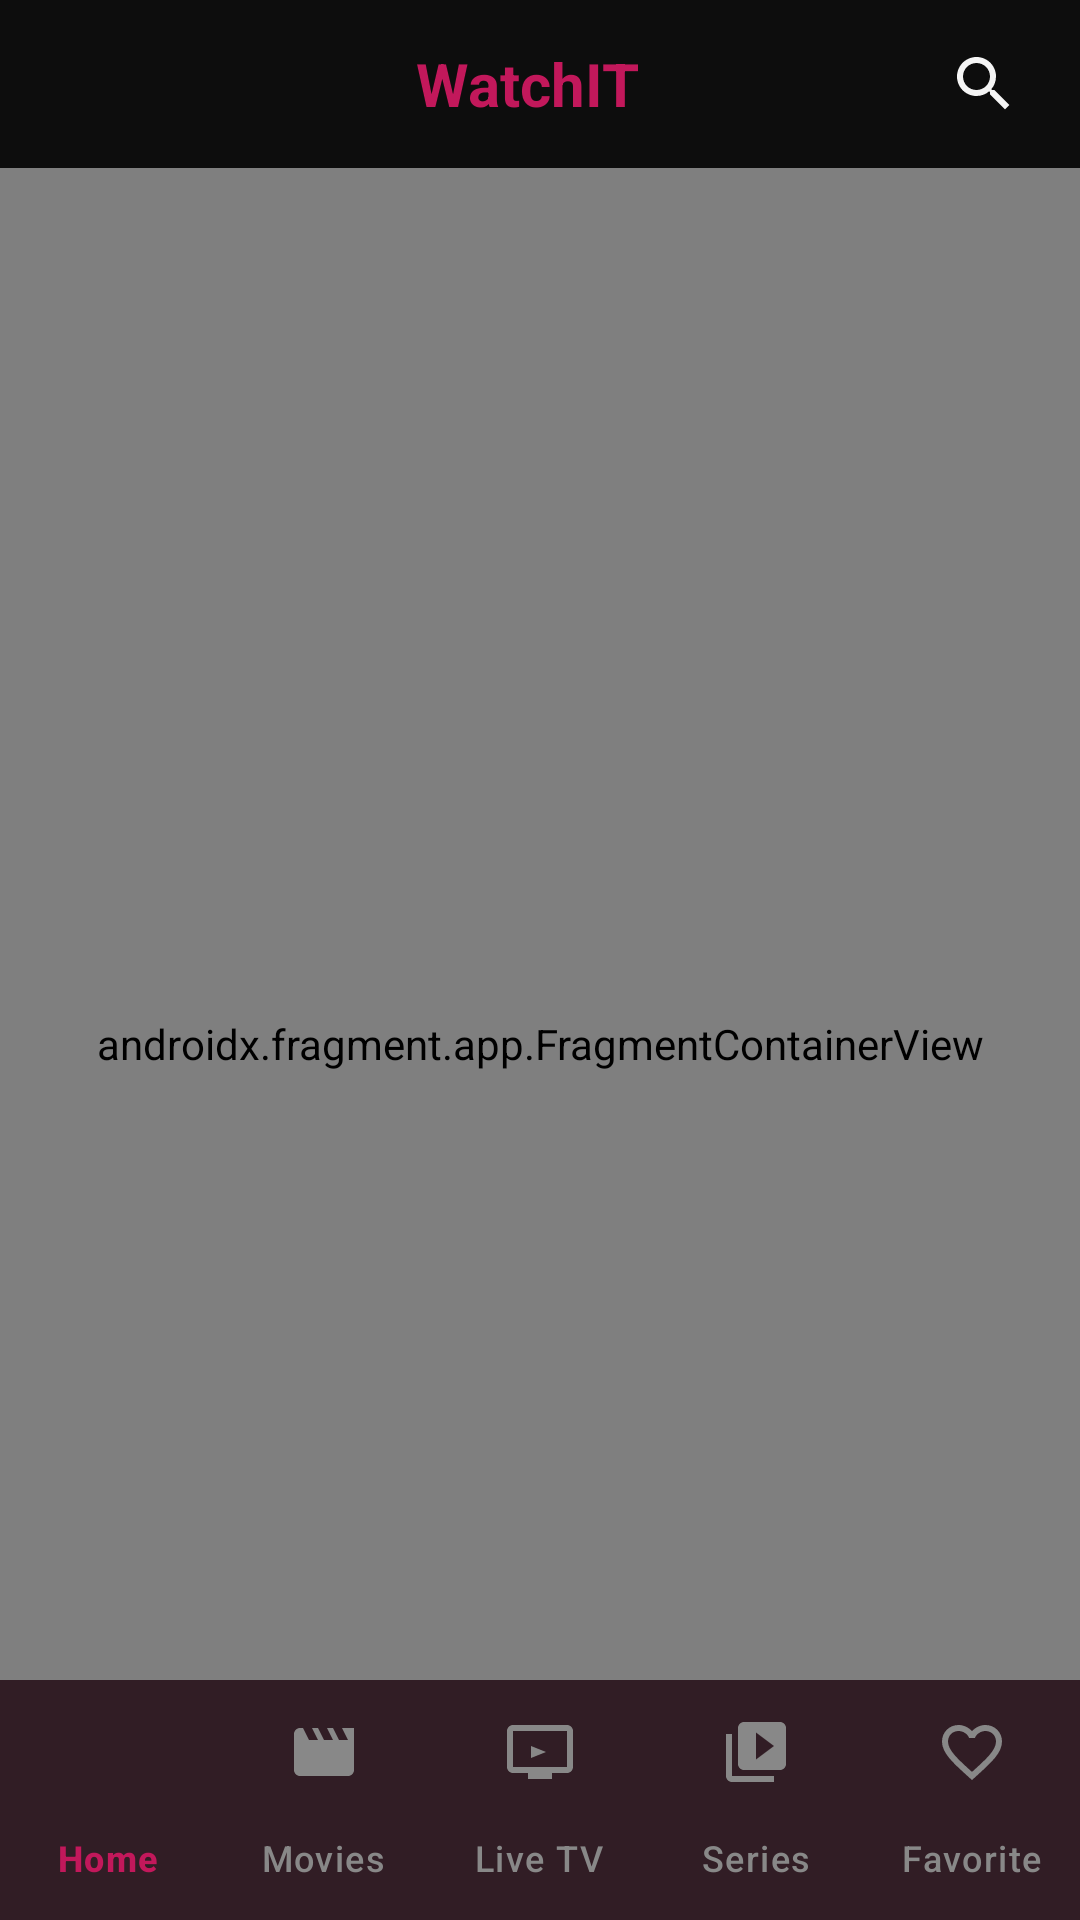

Named icons in this screenshot (1080 x 1920) and their centers, point (x, y):
search: point (983, 83)
